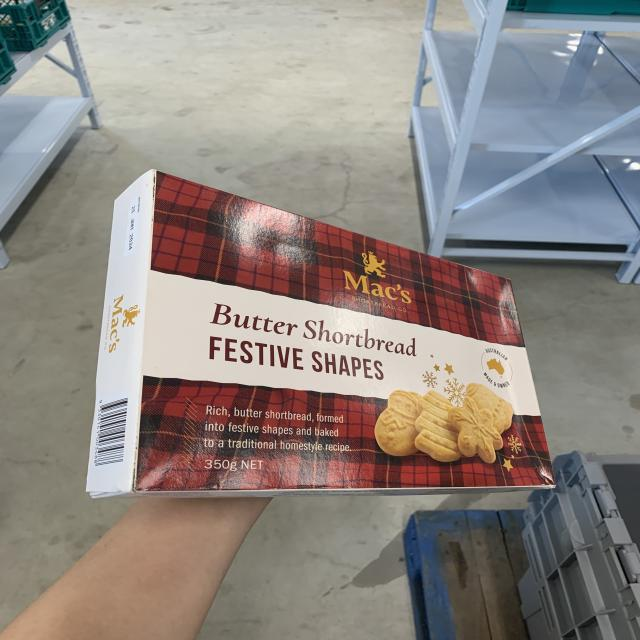object_name: (100, 172, 554, 494)
